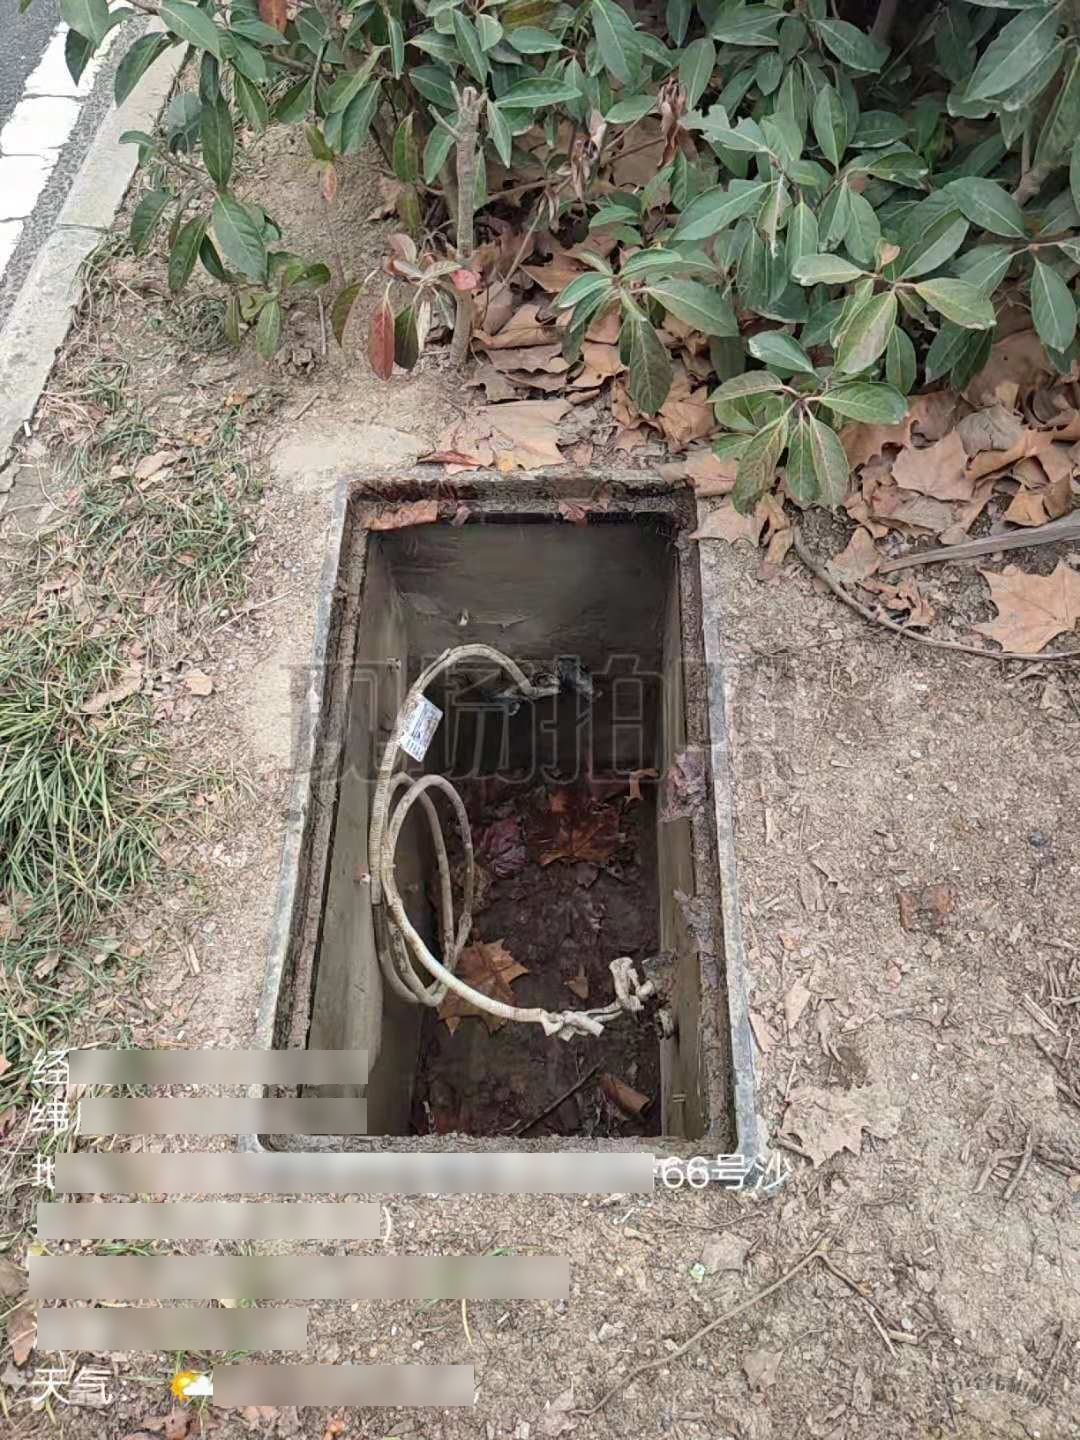lose: (243, 469, 762, 1183)
